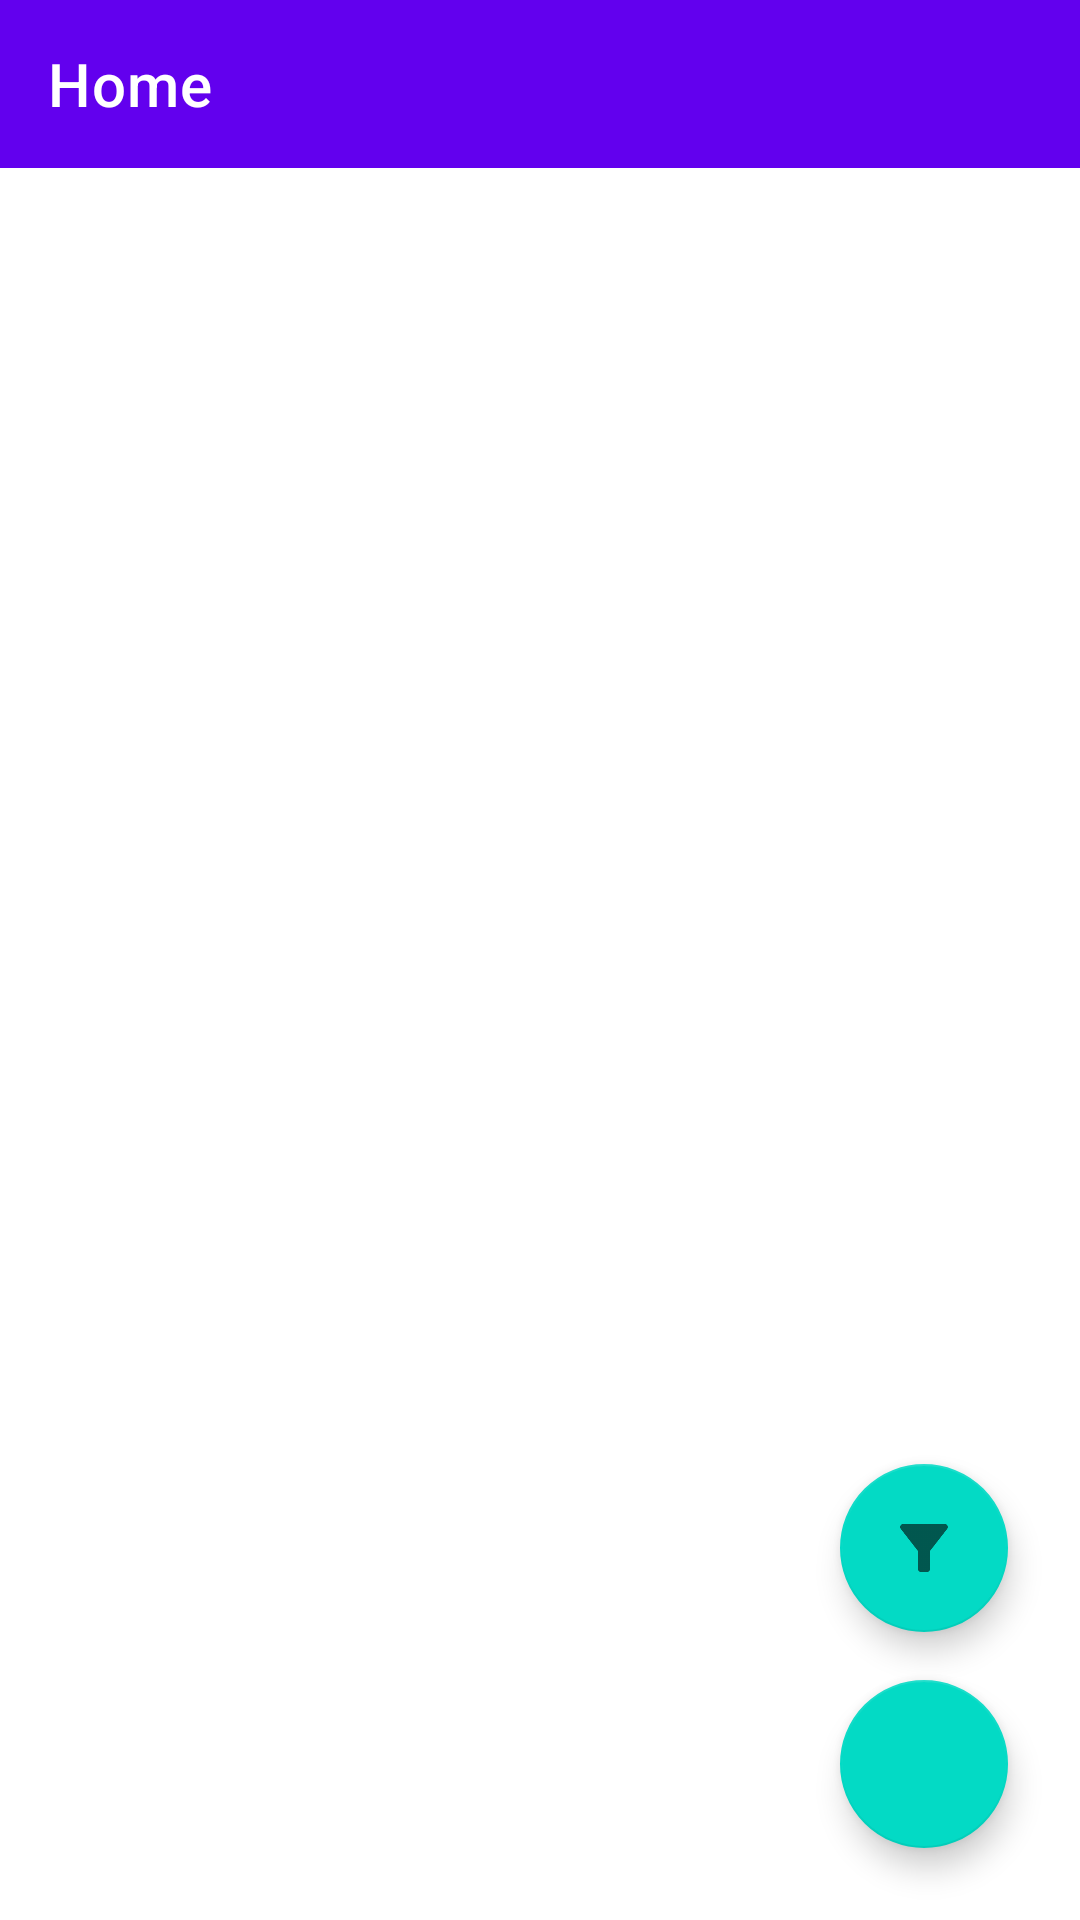

Where icons sit on this 1080×1920 app screen, as bbox(x1, y1, x2, y2):
Make query button: bbox(840, 1464, 1008, 1632)
